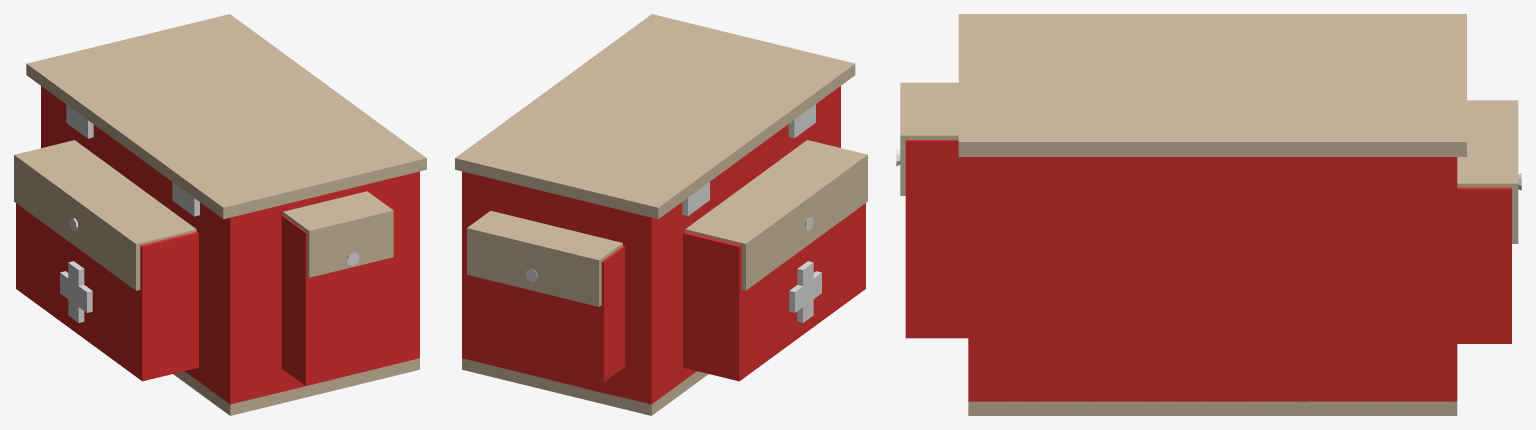
The model's file is health-pack.glb.
3 renders of one model, left to right at view 1: azimuth 30°, elevation 25°; view 2: azimuth 150°, elevation 25°; view 3: azimuth 270°, elevation 25°, orthographic. The views are drawn at different scales.
Visible parts, largest first — view 1: Cube.014_0, Cube.004_0, Cube.009_0; view 2: Cube.014_0, Cube.004_0, Cube.009_0; view 3: Cube.004_0, Cube.014_0.
Part boxes in pixels (x1,y1,x2,y2): Cube.014_0: (14,14,426,415); Cube.004_0: (16,86,419,404); Cube.009_0: (60,104,359,322); Cube.014_0: (455,14,867,415); Cube.004_0: (462,86,865,404); Cube.009_0: (525,104,821,322); Cube.004_0: (905,140,1511,401); Cube.014_0: (900,14,1518,415).
Size of the model in its own units: 1.23 by 0.9774 by 2.01.
